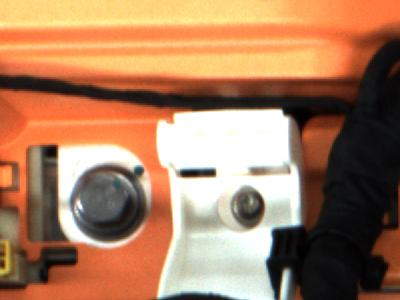nut_b: (65, 159, 151, 243)
